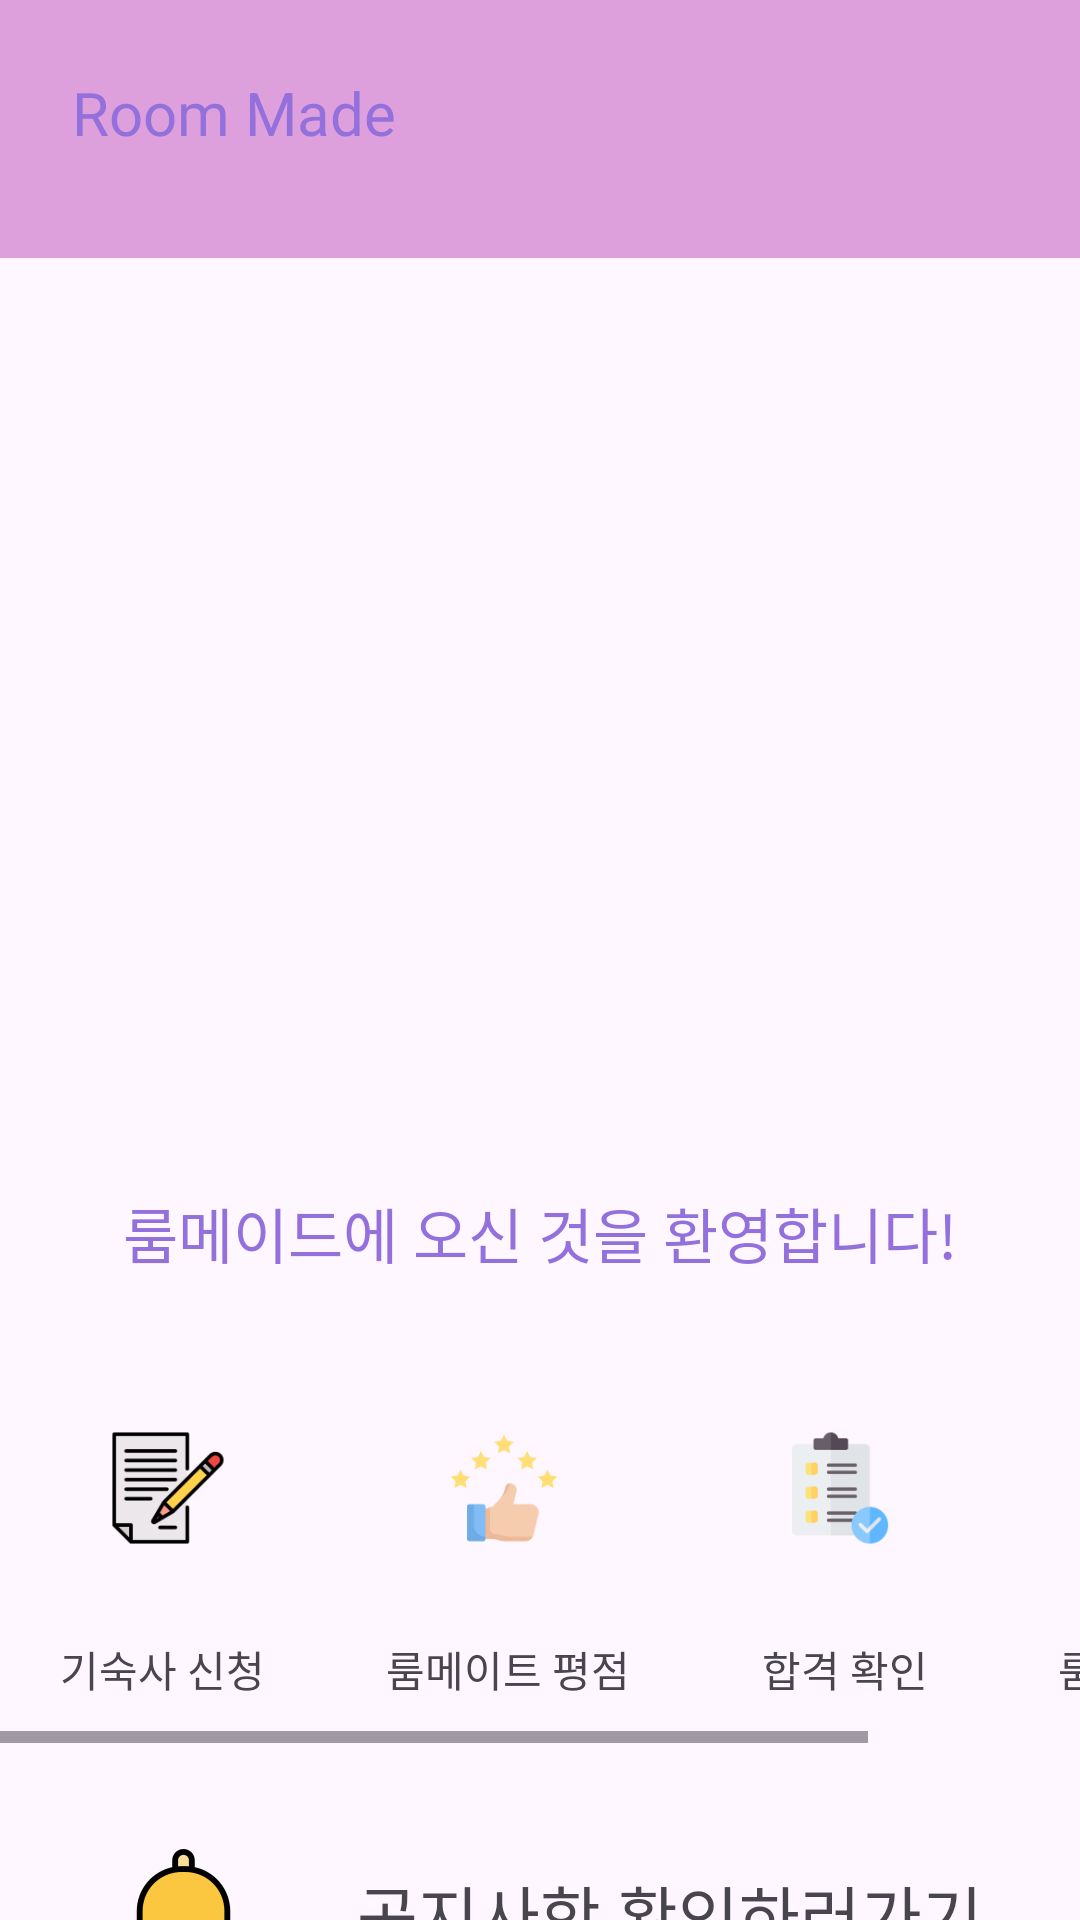

Screen size 1080w x 1920h. Icon name, then its center in pixels as point (x, y):
compliance: point (846, 1488)
singin: point (168, 1488)
star: point (504, 1488)
